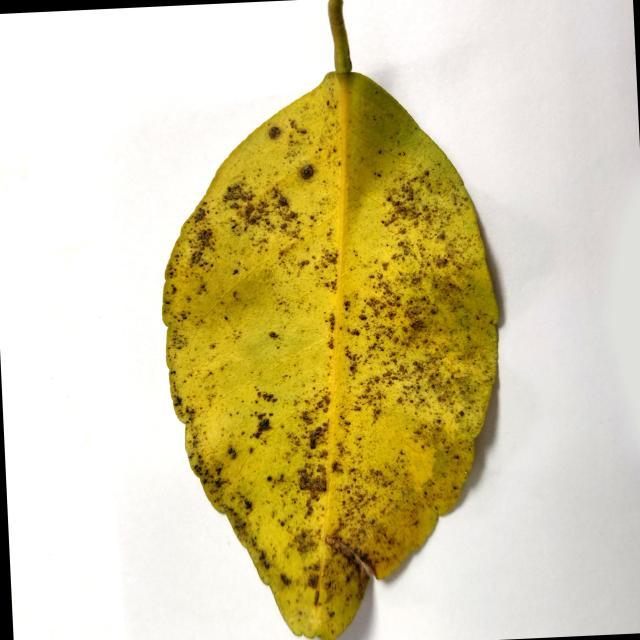melanose: (163, 0, 497, 640)
